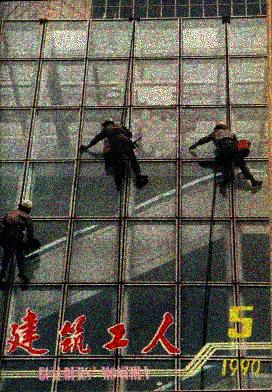helmet: (17, 199, 35, 215), (212, 120, 229, 132)
